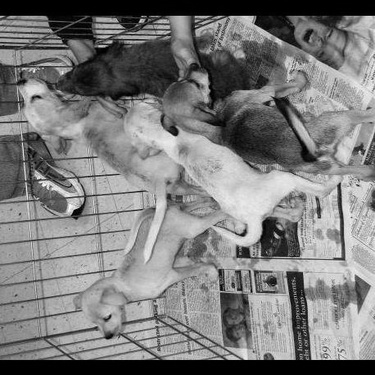dog: (124, 96, 341, 246), (159, 62, 374, 196), (79, 196, 247, 342), (50, 29, 255, 101), (7, 67, 130, 142)
